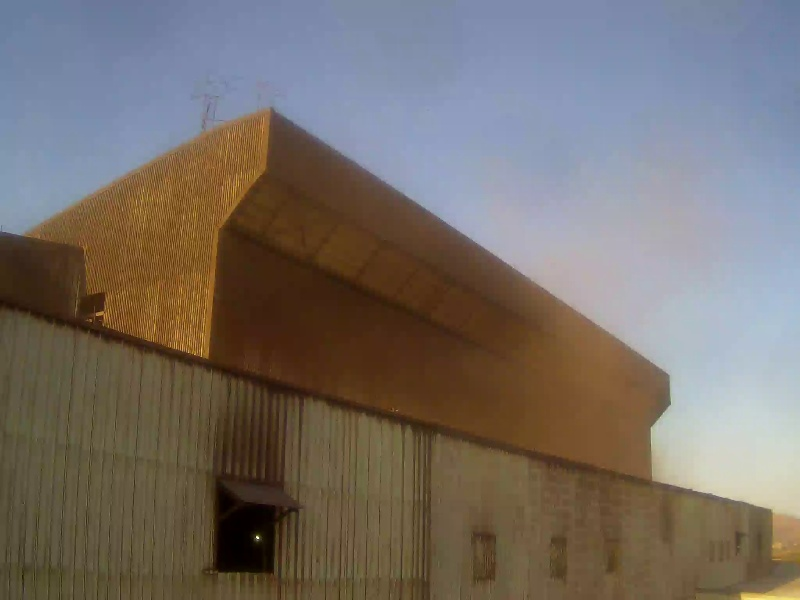bom: (18, 2, 294, 132)
ruim: (431, 175, 704, 491)
